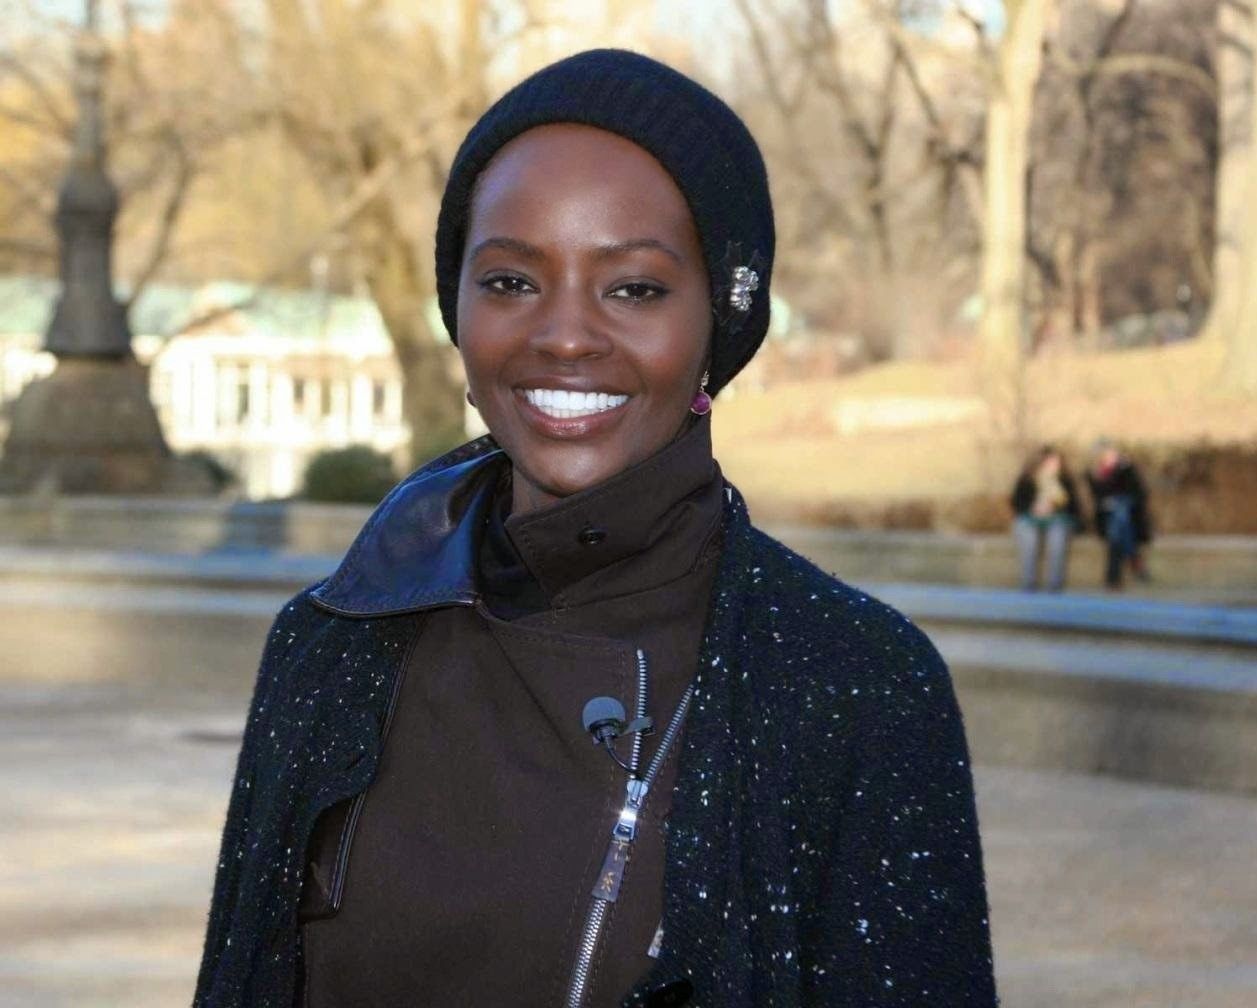face_no_mask: (425, 106, 742, 498)
